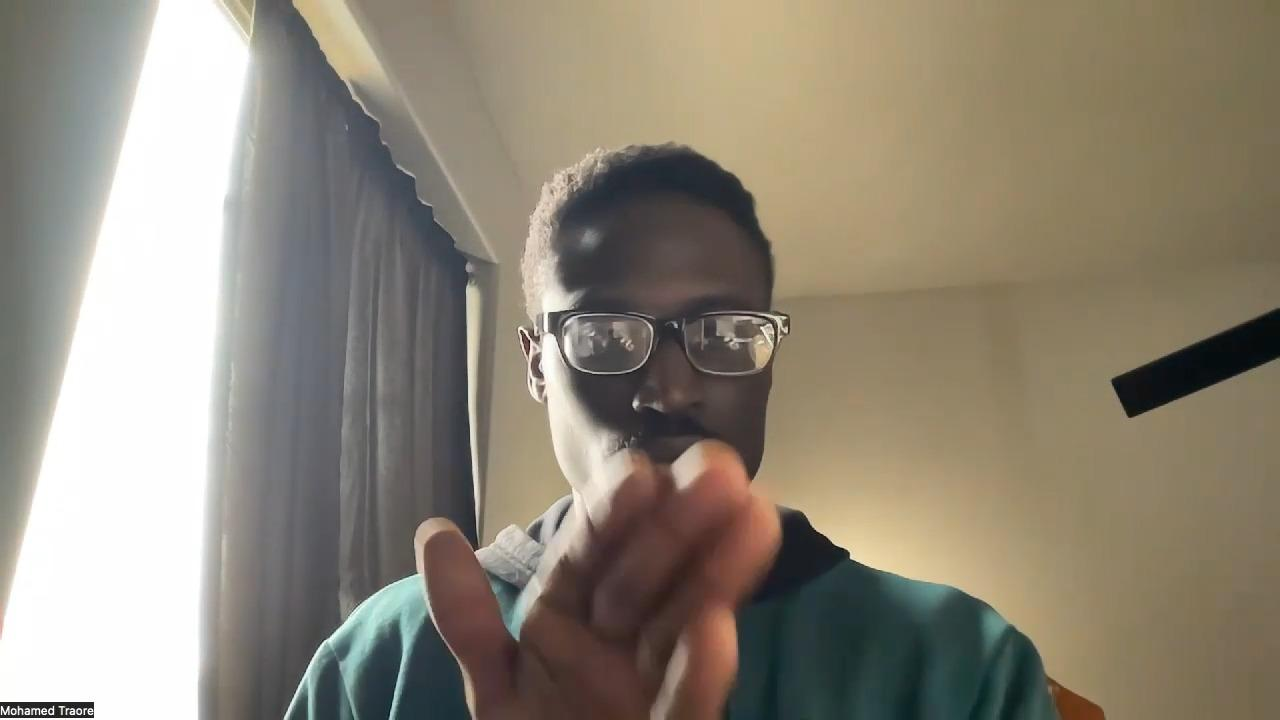Paper: (415, 438, 780, 720)
